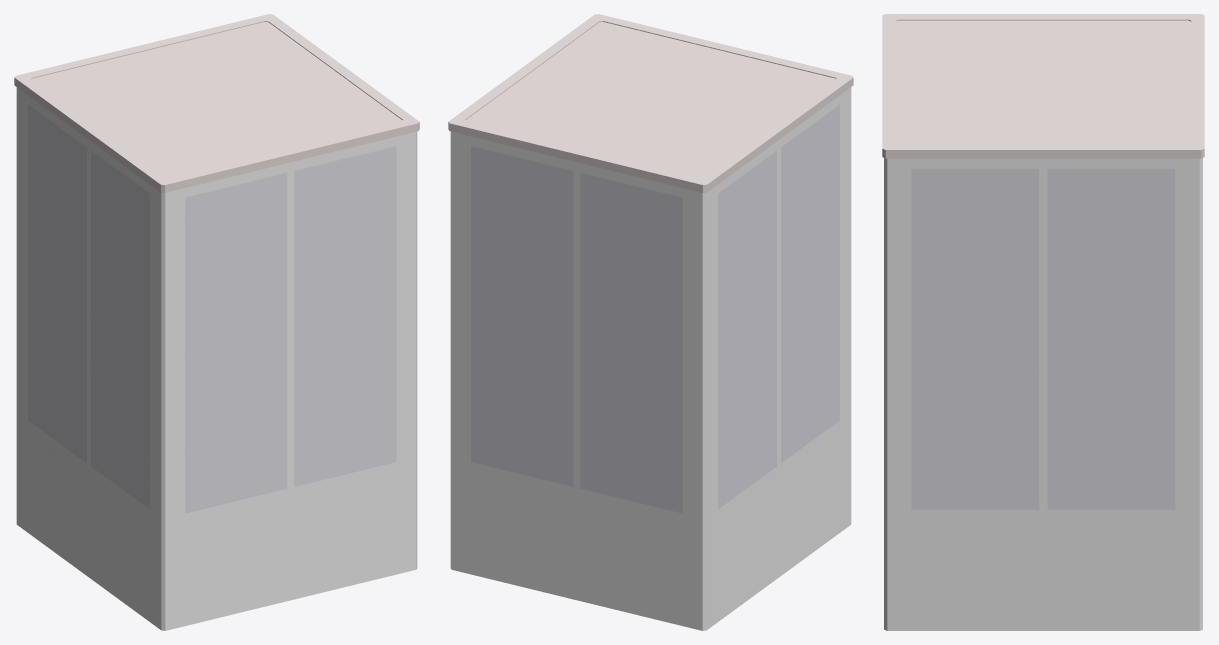
The model's file is B_Building (1).fbx.
3 views of the same model, side by side, from view 1: azimuth 30°, elevation 25°; view 2: azimuth 150°, elevation 25°; view 3: azimuth 270°, elevation 25° (orthographic). The views are drawn at different scales.
Visible parts, largest first — view 1: polySurface13, polySurface7, polySurface4, polySurface12, polySurface24, polySurface19, polySurface1, polySurface9, polySurface18, polySurface17, polySurface20, polySurface21 (+2 smaller); view 2: polySurface12, polySurface7, polySurface4, polySurface13, polySurface19, polySurface25, polySurface1, polySurface9, polySurface18, polySurface23, polySurface22, polySurface17 (+2 smaller); view 3: polySurface4, polySurface5, polySurface23, polySurface21, polySurface20, polySurface12, polySurface22, polySurface13, polySurface18, polySurface17.
Boxes of the visible parts, box(x1,y1,x2,y2) form: polySurface13: box(89, 104, 350, 327); polySurface7: box(16, 315, 233, 587); polySurface4: box(147, 14, 419, 228); polySurface12: box(14, 44, 227, 277); polySurface24: box(79, 318, 281, 517); polySurface19: box(16, 222, 286, 377); polySurface1: box(16, 482, 294, 630); polySurface9: box(234, 410, 343, 599); polySurface18: box(280, 229, 417, 354); polySurface17: box(263, 329, 417, 488); polySurface20: box(343, 460, 417, 587); polySurface21: box(343, 335, 417, 476); polySurface12: box(517, 95, 784, 327); polySurface7: box(634, 315, 851, 587); polySurface4: box(448, 14, 720, 228); polySurface13: box(653, 44, 853, 269); polySurface19: box(552, 222, 851, 377); polySurface25: box(564, 331, 775, 517); polySurface1: box(573, 482, 851, 630); polySurface9: box(524, 410, 633, 599); polySurface18: box(450, 229, 559, 348); polySurface23: box(450, 335, 524, 493); polySurface22: box(450, 468, 524, 587); polySurface17: box(450, 329, 579, 464); polySurface4: box(882, 84, 1204, 225); polySurface5: box(884, 225, 1202, 362); polySurface23: box(1033, 378, 1202, 566); polySurface21: box(884, 378, 1039, 513); polySurface20: box(884, 507, 1045, 630); polySurface12: box(1030, 14, 1204, 85); polySurface22: box(1042, 548, 1202, 630); polySurface13: box(882, 14, 1038, 85); polySurface18: box(884, 357, 1202, 372); polySurface17: box(884, 371, 1202, 379).
Size of the model in its own units: 257 by 423 by 257.
